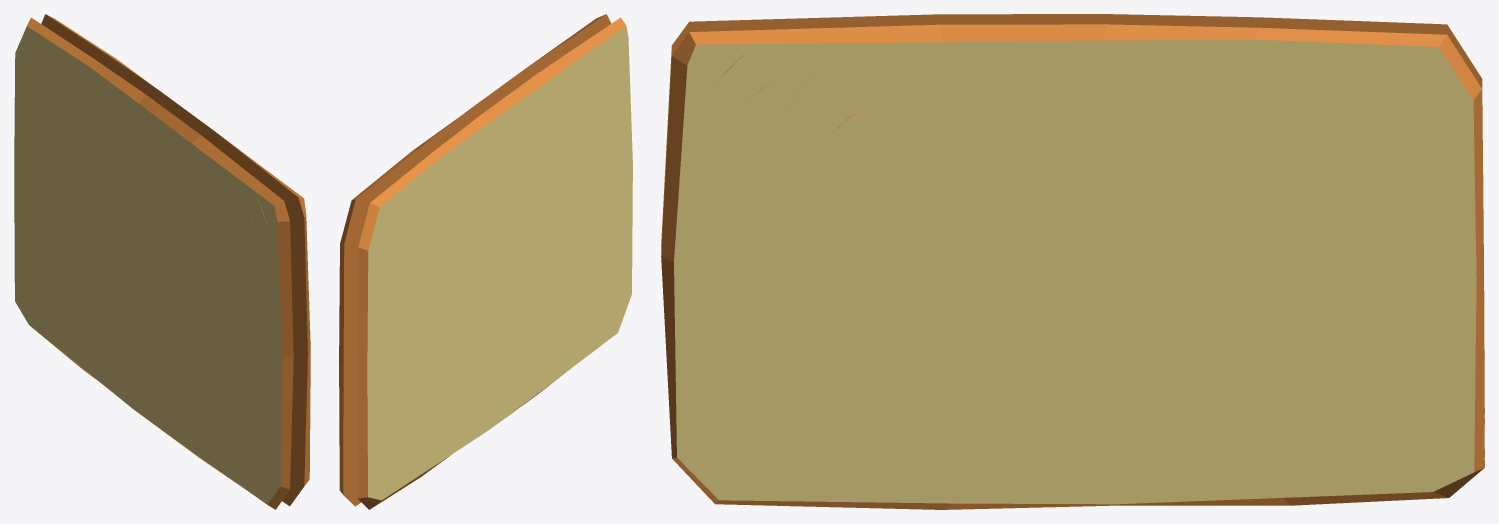
File: miel_visuel.fbx
3 views of the same model, side by side, from view 1: azimuth 30°, elevation 25°; view 2: azimuth 150°, elevation 25°; view 3: azimuth 270°, elevation 25° (orthographic). The views are drawn at different scales.
Visible parts, largest first — view 1: Honey_14, Honey_13, Honey_11, Honey_12; view 2: Honey_14, Honey_13, Honey_12, Honey_11; view 3: Honey_14, Honey_13, Honey_11, Honey_12, Honey_10.
Boxes of the visible parts, bbox=[...] form: Honey_14: bbox=[14, 14, 310, 509]; Honey_13: bbox=[39, 27, 307, 483]; Honey_11: bbox=[104, 65, 242, 236]; Honey_12: bbox=[73, 45, 298, 444]; Honey_14: bbox=[339, 14, 632, 509]; Honey_13: bbox=[340, 33, 620, 495]; Honey_12: bbox=[346, 64, 610, 455]; Honey_11: bbox=[356, 67, 593, 442]; Honey_14: bbox=[661, 14, 1484, 509]; Honey_13: bbox=[661, 14, 1484, 424]; Honey_11: bbox=[780, 14, 1217, 136]; Honey_12: bbox=[741, 14, 1316, 129]; Honey_10: bbox=[828, 105, 1078, 148].
Size of the model in its own units: 2.65 by 27.36 by 42.07.
